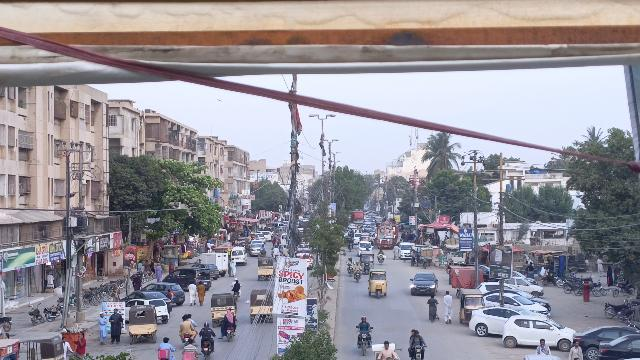Bike: (356, 329, 373, 357), (182, 337, 199, 360), (200, 338, 214, 360), (411, 342, 428, 360), (181, 329, 193, 346), (224, 325, 234, 343), (353, 270, 363, 284), (346, 264, 355, 276)
Car: (502, 314, 572, 349), (571, 324, 622, 358), (467, 304, 519, 337), (596, 331, 640, 359), (165, 266, 212, 288), (406, 269, 440, 298)
Person: (440, 288, 456, 327), (109, 308, 124, 344), (96, 311, 110, 344), (426, 291, 440, 323), (157, 336, 176, 357), (566, 337, 583, 360), (221, 308, 237, 330), (199, 319, 214, 340), (357, 314, 372, 334), (187, 279, 197, 307), (180, 314, 193, 335), (411, 329, 425, 348), (196, 280, 206, 306), (536, 337, 550, 354), (153, 261, 164, 281), (132, 273, 143, 290), (353, 260, 363, 271), (347, 257, 355, 267)
Rickshaw: (127, 304, 159, 344), (248, 286, 275, 324), (458, 288, 485, 323), (210, 293, 236, 326), (366, 266, 389, 300), (256, 255, 274, 281), (359, 251, 376, 274)
Truck: (199, 251, 229, 274)
